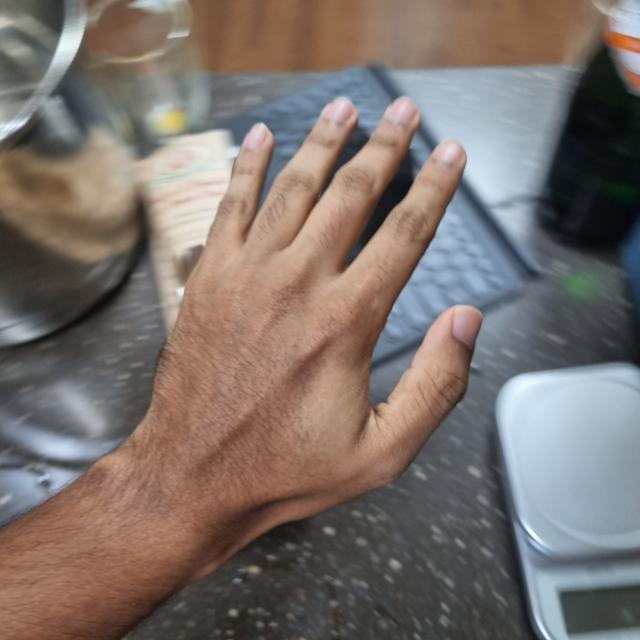Paper: (136, 99, 477, 524)
